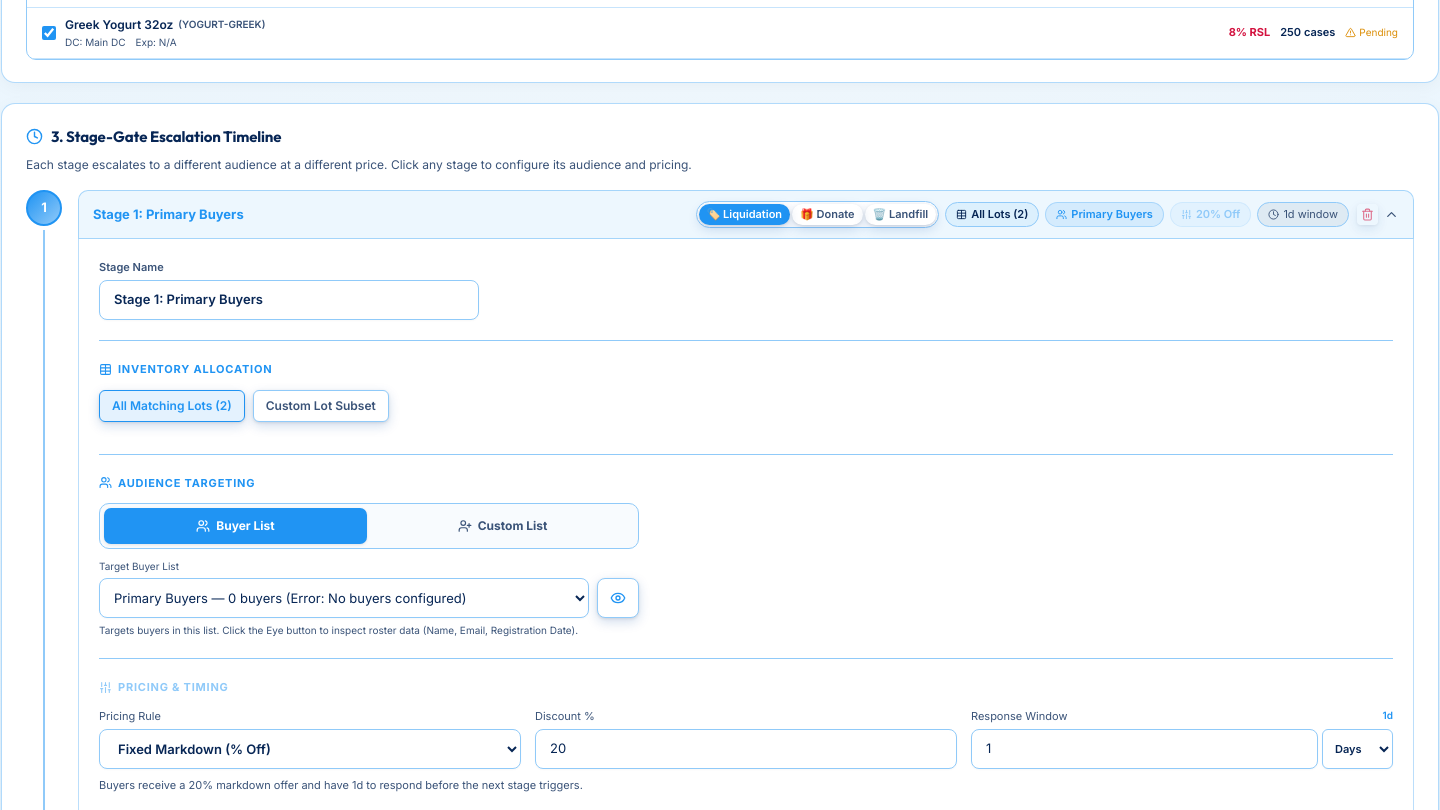
Test: Issue 0091 — Slice 2: Granular Per-Stage Inventory Allocation › Slice 2.2: switches to Custom Lot Subset mode, lists selectable lots with details, and updates stage allocatedLotIds
(page scrolled)
Click Custom Lot Subset button
Click the button with test id "stage-1-allocation-custom-btn".
click(321, 406)  # box x1=253 y1=390 x2=389 y2=422
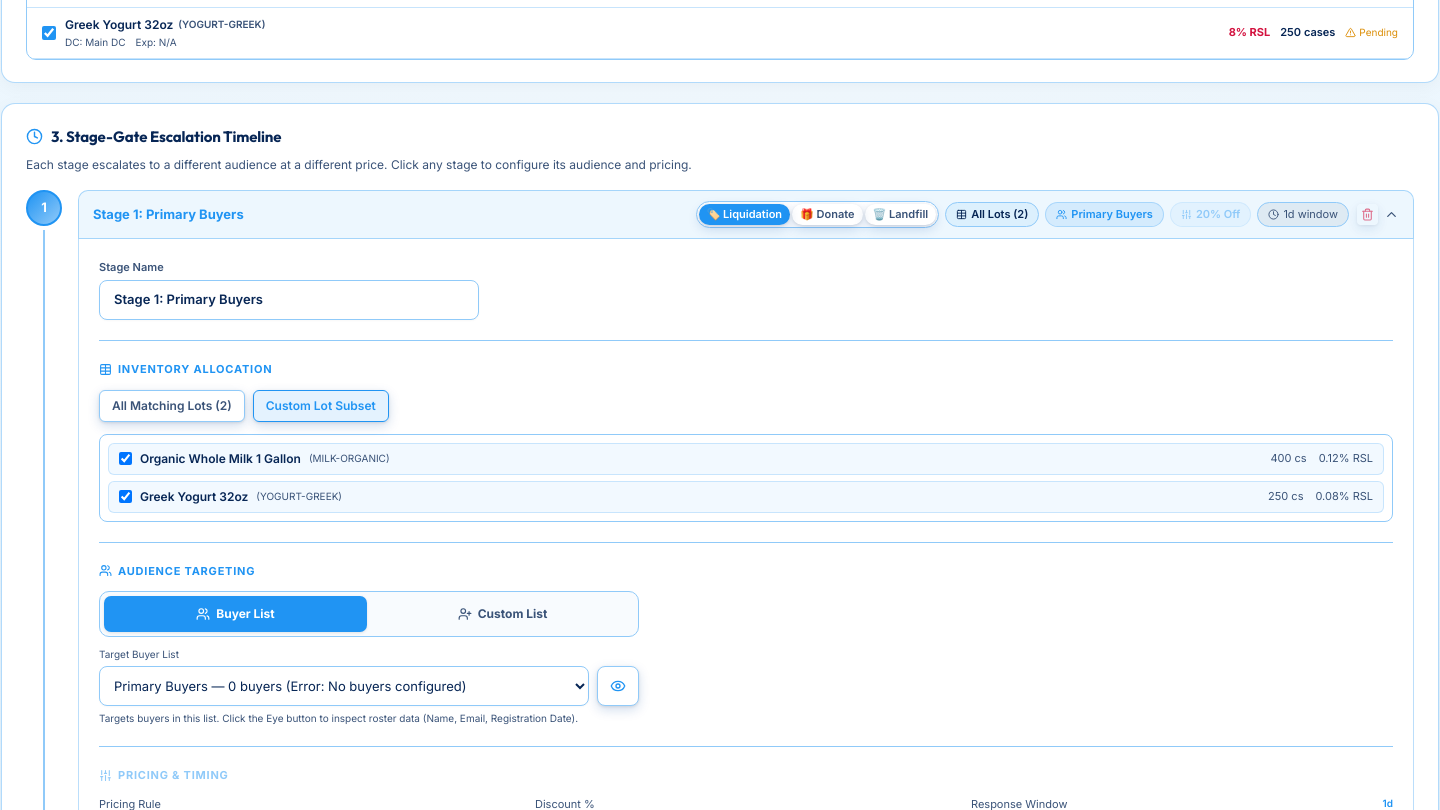
Expected: the checkbox with test id "stage-1-lot-checkbox-lot-102" is shown
Expected: the checkbox with test id "stage-1-lot-checkbox-lot-101" is checked, x1=119 y1=452 x2=132 y2=465
Expected: the checkbox with test id "stage-1-lot-checkbox-lot-102" is checked
Click the checkbox with test id "stage-1-lot-checkbox-lot-102".
click(126, 496)  # box x1=119 y1=490 x2=132 y2=503
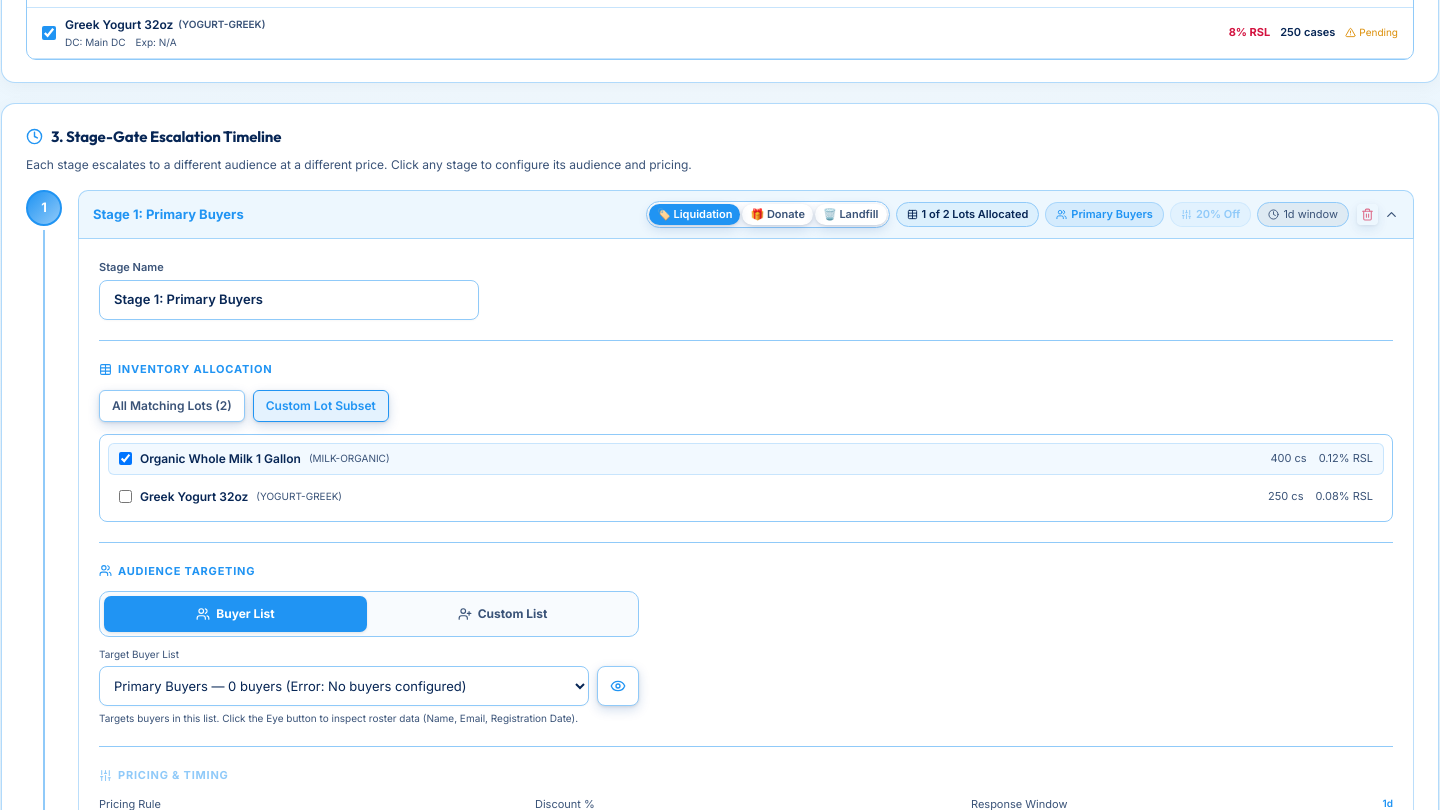
Expected: the checkbox with test id "stage-1-lot-checkbox-lot-102" is not checked, x1=119 y1=490 x2=132 y2=503
Expected: the checkbox with test id "stage-1-lot-checkbox-lot-101" is checked, x1=119 y1=452 x2=132 y2=465
Expected: the element with test id "stage-1-lot-allocation-chip" reads "1 of 2 Lots Allocated", x1=922 y1=207 x2=1028 y2=221
Switch back to All Matching Lots
Click the button with test id "stage-1-allocation-all-btn".
click(172, 406)  # box x1=99 y1=390 x2=245 y2=422
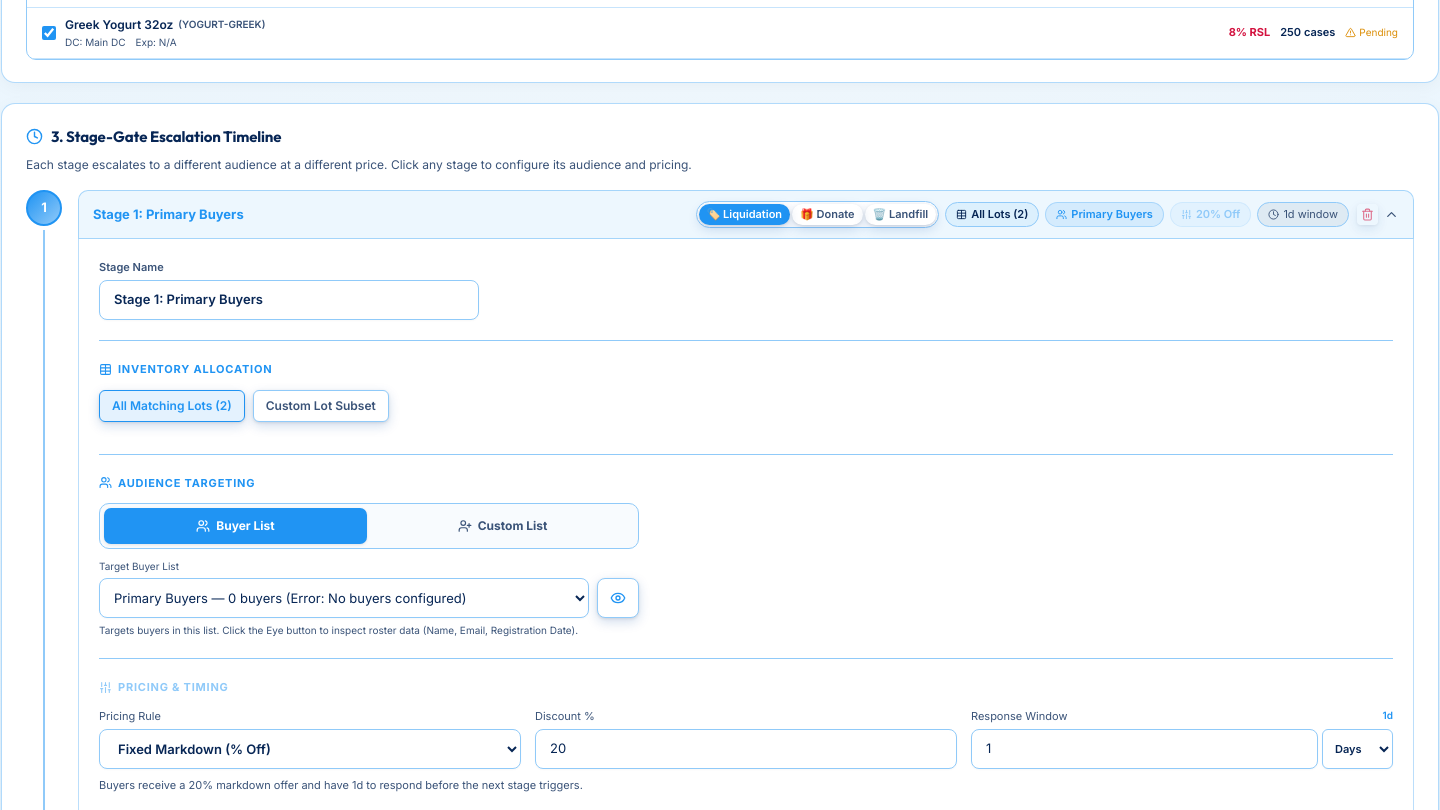
Expected: the element with test id "stage-1-lot-allocation-chip" reads "All Lots (2)", x1=971 y1=207 x2=1028 y2=221
